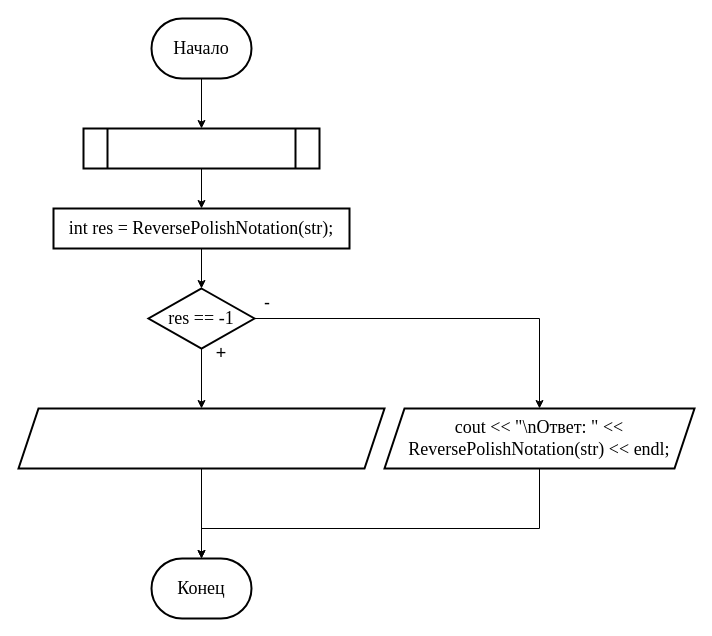
Some shapes in this 712 by 636 pixel diagram are drawn without their labels. The centre of each missing label's shape, as x and y in pixels:
cout << "Посчитать не получилось, из-за ошибки." << endl;: [201,438]
void CheckDel(char *str): [201,148]
